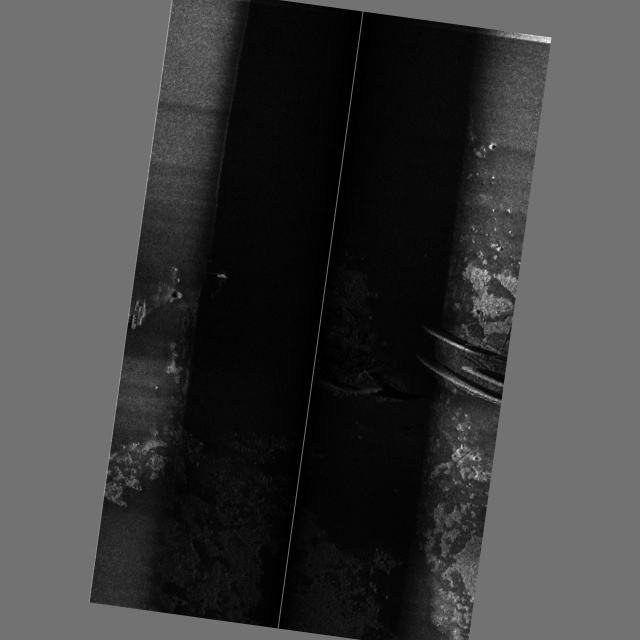Shipwreck: (118, 265, 513, 459)
